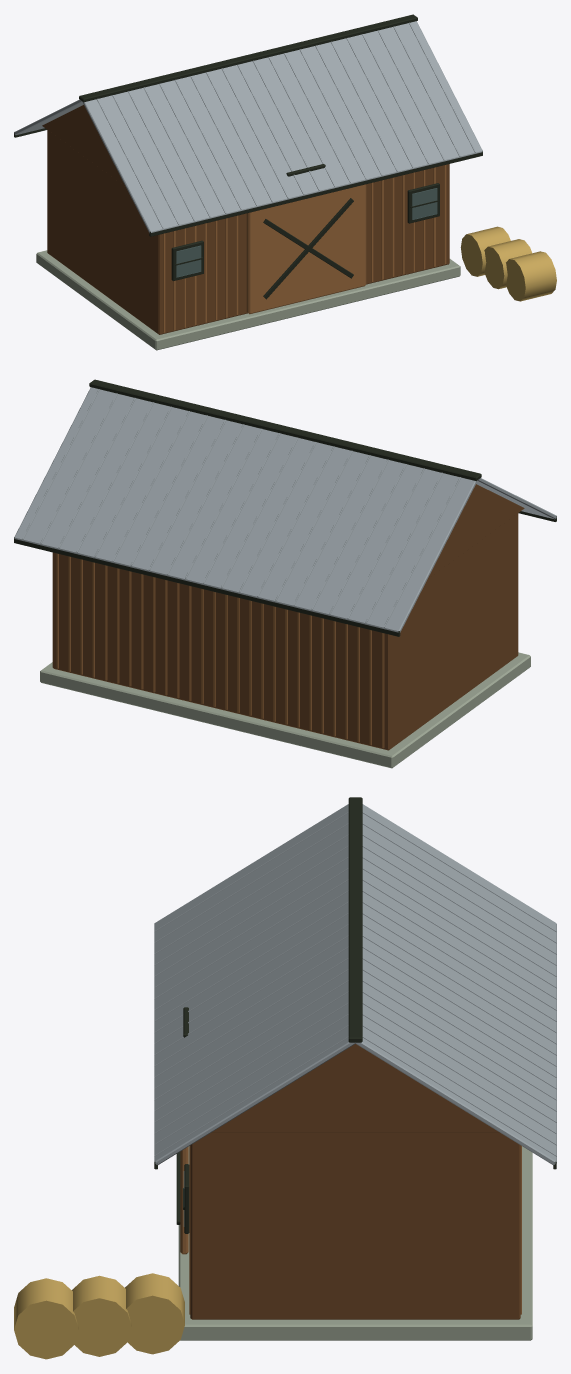
File: barn.glb
3 views of the same model, one above another, from view 1: azimuth 30°, elevation 25°; view 2: azimuth 150°, elevation 25°; view 3: azimuth 270°, elevation 25° (orthographic). The views are drawn at different scales.
Visible parts, largest first — view 1: Barn; view 2: Barn; view 3: Barn.
Boxes of the visible parts, x1,y1,x2,y2 form: Barn: [14, 14, 556, 350]; Barn: [14, 379, 556, 768]; Barn: [14, 797, 556, 1359].
Bounding box in the file's own units: 10.38 × 5.88 × 9.2.
